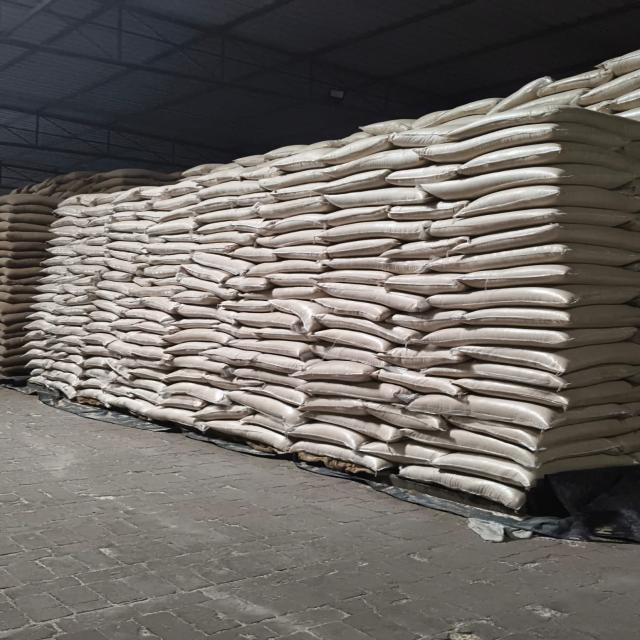Sack-2: (431, 115, 635, 160), (455, 209, 640, 256), (454, 193, 640, 237), (446, 200, 640, 241), (459, 377, 640, 420), (417, 396, 636, 430), (439, 159, 626, 198), (457, 237, 640, 271), (446, 364, 640, 396), (471, 255, 640, 291), (430, 323, 640, 351), (430, 283, 640, 310), (466, 138, 632, 172), (463, 181, 630, 214), (457, 303, 640, 330), (286, 434, 392, 478), (397, 466, 530, 501), (441, 105, 640, 127), (420, 432, 548, 466), (428, 245, 573, 275), (326, 144, 432, 178), (313, 314, 422, 344), (524, 438, 628, 468), (442, 454, 538, 486), (197, 415, 283, 450), (464, 346, 640, 362), (317, 220, 441, 242), (378, 270, 482, 296), (310, 414, 404, 440), (382, 237, 480, 261), (538, 64, 606, 98), (394, 197, 476, 225), (208, 346, 299, 371), (304, 375, 378, 405), (321, 284, 421, 306), (370, 346, 468, 368), (243, 196, 334, 219), (492, 78, 548, 114), (287, 423, 363, 448), (510, 88, 588, 112), (319, 204, 393, 229), (233, 392, 294, 422), (381, 311, 468, 332), (324, 134, 394, 160), (584, 68, 640, 100), (187, 250, 251, 276), (295, 397, 374, 418), (382, 370, 451, 394), (243, 380, 309, 405), (313, 313, 383, 336), (312, 296, 379, 320), (159, 381, 228, 404), (227, 340, 306, 360), (389, 165, 464, 186), (231, 411, 299, 434), (324, 329, 386, 354), (312, 344, 382, 366), (306, 357, 367, 382), (312, 277, 378, 300), (192, 202, 263, 223), (317, 256, 431, 269), (238, 260, 320, 278), (173, 304, 240, 326), (365, 398, 425, 422), (326, 170, 388, 193), (143, 405, 202, 428), (163, 327, 234, 346), (168, 353, 229, 375), (326, 253, 392, 273), (179, 276, 239, 298), (196, 180, 265, 198), (275, 147, 329, 169), (252, 231, 331, 246), (275, 300, 313, 330), (240, 368, 300, 387), (277, 151, 326, 174), (322, 190, 415, 202), (268, 215, 328, 233), (247, 287, 322, 301), (211, 322, 269, 338), (265, 185, 325, 200), (324, 240, 388, 254), (389, 131, 452, 145), (129, 282, 184, 298), (115, 329, 165, 346), (77, 342, 124, 360), (308, 270, 384, 281), (103, 394, 149, 412), (390, 169, 463, 180), (100, 218, 157, 232), (182, 264, 225, 282), (268, 172, 323, 186), (230, 278, 278, 294), (608, 52, 640, 76), (143, 195, 202, 208), (152, 218, 197, 235), (106, 253, 146, 272), (156, 368, 210, 382), (354, 117, 417, 129), (193, 169, 240, 185), (189, 239, 233, 256), (236, 312, 288, 326), (164, 316, 218, 329), (272, 246, 329, 258), (0, 240, 57, 252), (92, 296, 126, 316), (0, 192, 52, 205), (0, 204, 52, 217), (198, 234, 254, 246), (100, 278, 137, 296), (168, 290, 215, 304), (191, 219, 237, 233), (138, 264, 184, 278), (258, 331, 311, 343), (48, 205, 90, 220), (48, 226, 93, 240), (52, 361, 87, 379), (274, 273, 322, 286), (230, 247, 278, 260), (15, 327, 56, 342), (193, 197, 240, 210), (110, 372, 150, 387), (233, 220, 275, 234), (0, 230, 48, 242), (1, 268, 49, 280), (0, 300, 41, 314), (16, 320, 60, 333), (72, 388, 110, 403), (235, 190, 273, 205), (36, 264, 76, 278), (128, 308, 168, 322), (49, 374, 72, 398), (136, 254, 191, 264), (0, 249, 50, 260), (46, 213, 88, 226), (110, 188, 146, 203), (82, 331, 118, 346), (2, 291, 38, 306), (21, 284, 73, 294), (26, 301, 69, 313), (98, 169, 162, 177), (143, 295, 173, 312), (1, 214, 52, 224), (166, 180, 200, 195), (238, 166, 277, 179), (43, 245, 85, 257), (113, 358, 168, 367), (89, 288, 126, 301), (113, 343, 150, 356), (616, 88, 640, 108), (167, 344, 220, 353), (140, 184, 168, 201), (131, 276, 178, 286), (64, 292, 97, 306), (143, 242, 194, 251), (261, 146, 299, 158), (105, 249, 140, 262), (0, 283, 37, 295), (0, 312, 37, 324), (81, 321, 115, 334), (42, 236, 82, 247), (91, 177, 152, 184), (15, 357, 53, 368), (88, 367, 114, 383), (73, 272, 98, 288), (0, 222, 49, 230), (156, 394, 204, 402), (0, 344, 19, 364), (70, 262, 108, 272), (72, 244, 110, 254), (80, 204, 111, 216), (94, 273, 140, 281), (112, 317, 140, 330), (134, 389, 162, 402), (80, 224, 110, 236), (53, 305, 93, 314), (138, 347, 168, 359), (230, 154, 266, 164), (19, 340, 51, 351), (89, 311, 121, 322), (48, 328, 92, 336), (133, 211, 166, 221), (220, 302, 267, 309), (84, 354, 111, 366), (32, 309, 55, 323), (128, 368, 160, 378), (0, 320, 32, 330), (38, 259, 73, 268), (0, 260, 39, 268), (110, 210, 138, 221), (62, 336, 90, 347), (115, 200, 148, 209), (160, 234, 202, 241), (0, 277, 41, 284), (24, 374, 50, 385), (86, 194, 121, 202), (19, 349, 53, 357), (86, 214, 115, 223), (57, 194, 83, 204), (29, 294, 61, 302), (78, 236, 108, 244), (62, 316, 92, 324), (178, 168, 218, 174), (67, 353, 87, 365), (156, 214, 194, 220), (145, 320, 164, 332), (42, 274, 62, 285), (104, 243, 144, 248), (53, 344, 78, 352), (108, 233, 130, 241)
